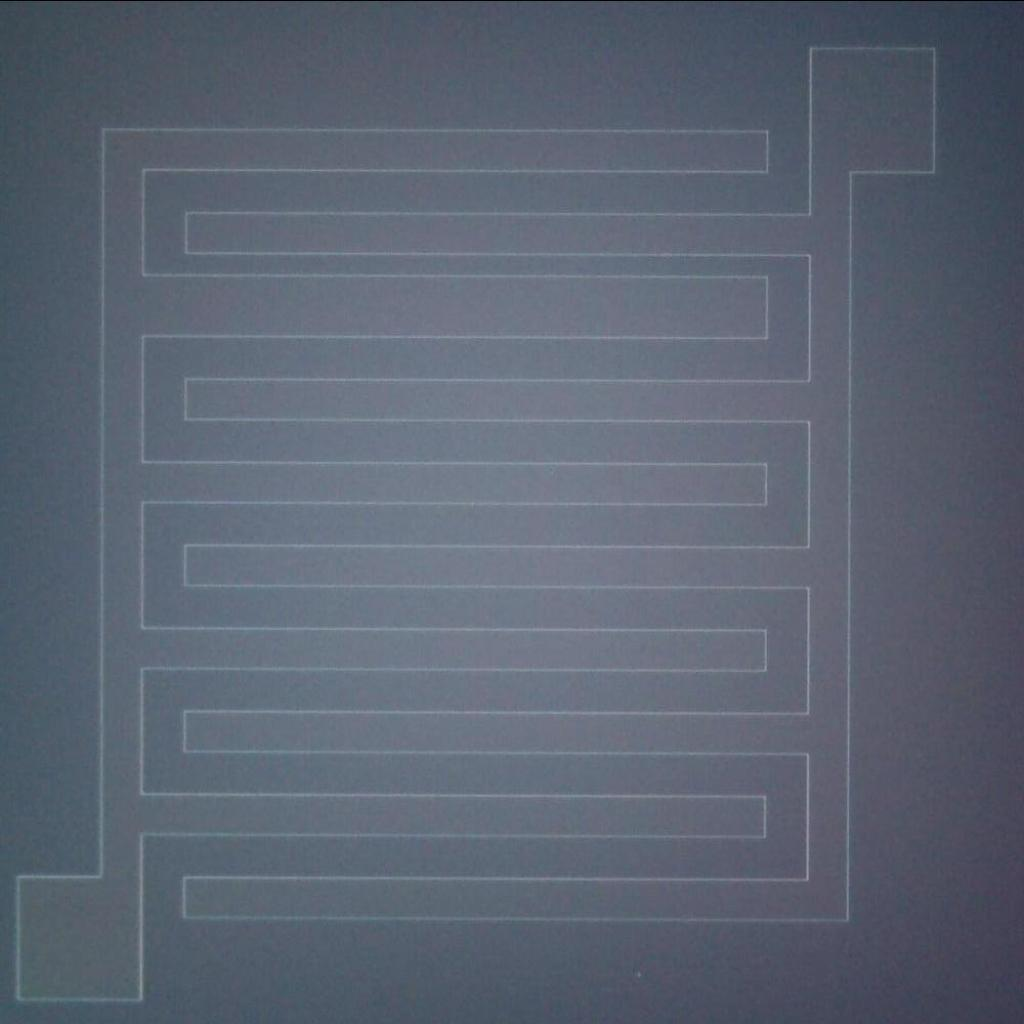fat circuit: (133, 265, 785, 347)
